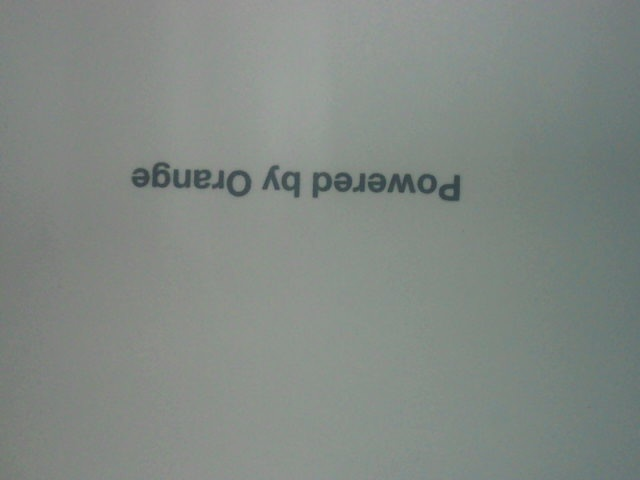AS_PowerByOrange: (117, 142, 482, 209)
